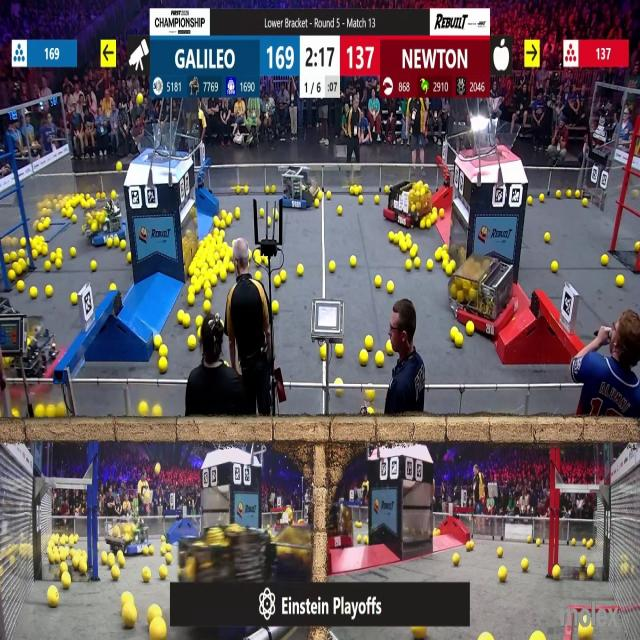ball_airborne: (151, 620, 167, 640), (137, 95, 144, 106), (154, 463, 160, 474)
ball_ground: (124, 604, 137, 628), (47, 586, 58, 608), (148, 605, 160, 618), (62, 572, 71, 588), (498, 566, 506, 582), (142, 568, 151, 582), (58, 404, 67, 418), (160, 357, 168, 372), (360, 350, 368, 365), (35, 407, 44, 420), (337, 344, 345, 358), (161, 565, 169, 579), (377, 352, 385, 366), (553, 566, 561, 580), (111, 566, 119, 580), (187, 338, 195, 352), (152, 406, 161, 418), (139, 404, 148, 416), (46, 406, 55, 418), (364, 338, 372, 351), (455, 336, 463, 349), (386, 342, 393, 356), (588, 564, 595, 578), (466, 322, 474, 334), (116, 555, 124, 567), (452, 554, 460, 566), (121, 592, 129, 604), (387, 281, 394, 294), (79, 561, 86, 574), (204, 302, 212, 313), (160, 346, 168, 357), (365, 389, 373, 400), (182, 316, 190, 327), (552, 262, 559, 274), (618, 275, 625, 287), (522, 558, 529, 570), (45, 285, 52, 297), (375, 276, 382, 288), (205, 288, 212, 300), (444, 254, 451, 266), (532, 632, 542, 640), (48, 554, 56, 564), (320, 346, 326, 359), (296, 266, 303, 277), (16, 281, 23, 292), (219, 271, 226, 282), (211, 276, 218, 287), (411, 246, 418, 257), (398, 241, 405, 252), (108, 555, 115, 566), (71, 292, 77, 304), (273, 303, 279, 315), (154, 336, 160, 348), (350, 255, 356, 267), (177, 312, 183, 324), (102, 553, 108, 565), (481, 634, 493, 640), (187, 294, 194, 304), (466, 540, 473, 550), (451, 326, 458, 336), (275, 277, 282, 287), (414, 258, 421, 268), (187, 267, 194, 277), (602, 254, 608, 265), (427, 261, 433, 272), (195, 316, 201, 327), (31, 287, 37, 298), (543, 233, 549, 244), (407, 261, 413, 272), (434, 250, 440, 261), (388, 233, 395, 242), (230, 265, 237, 274), (17, 249, 24, 258), (11, 411, 18, 420), (204, 281, 211, 290), (10, 252, 17, 261), (115, 163, 122, 172), (67, 208, 74, 217), (92, 262, 98, 272), (328, 263, 334, 273), (579, 556, 585, 566), (236, 209, 242, 219), (440, 209, 446, 219), (44, 262, 50, 272), (8, 271, 14, 281), (280, 272, 286, 282), (57, 261, 63, 271), (32, 249, 38, 259), (167, 554, 173, 564), (42, 246, 48, 256), (226, 215, 232, 225), (57, 249, 63, 259), (4, 254, 10, 264), (62, 562, 68, 572), (144, 544, 150, 554), (72, 558, 78, 568), (214, 216, 220, 226), (448, 262, 454, 272), (226, 248, 232, 258), (190, 276, 196, 286), (188, 285, 195, 293), (70, 248, 76, 257), (119, 241, 125, 250), (254, 273, 260, 282), (19, 239, 25, 248), (566, 189, 572, 198), (49, 252, 55, 261), (220, 210, 226, 219), (128, 252, 133, 262), (259, 208, 264, 218), (497, 548, 502, 558), (108, 239, 113, 249), (426, 218, 431, 228), (195, 327, 200, 337), (110, 283, 116, 291), (337, 378, 343, 386), (583, 200, 589, 208), (149, 547, 155, 555), (363, 536, 369, 544), (167, 544, 173, 552), (113, 240, 119, 248), (317, 190, 323, 198), (407, 242, 413, 250), (539, 192, 544, 201), (315, 200, 320, 209), (557, 189, 562, 198), (421, 219, 426, 228), (636, 242, 640, 252), (358, 197, 363, 205), (574, 190, 579, 198), (111, 190, 116, 198), (244, 185, 249, 193), (272, 185, 277, 193), (219, 230, 224, 238), (444, 244, 449, 252), (219, 251, 224, 259), (26, 258, 31, 266), (339, 207, 343, 216), (358, 538, 362, 547), (526, 536, 532, 542), (276, 210, 280, 219), (367, 410, 372, 417), (72, 215, 77, 222), (326, 191, 331, 198), (571, 538, 576, 545), (237, 185, 242, 192), (528, 198, 532, 206), (374, 197, 378, 205), (267, 185, 271, 193), (269, 217, 273, 225), (162, 545, 166, 553), (536, 538, 540, 546), (385, 185, 389, 193), (162, 535, 166, 542), (97, 191, 101, 198), (82, 224, 85, 232)
goal: (466, 120, 520, 160), (130, 130, 188, 160)
robot_blue: (106, 515, 150, 556), (89, 197, 124, 246), (279, 165, 317, 210)
robot_red: (0, 317, 56, 408), (451, 254, 512, 325), (387, 179, 433, 228)
